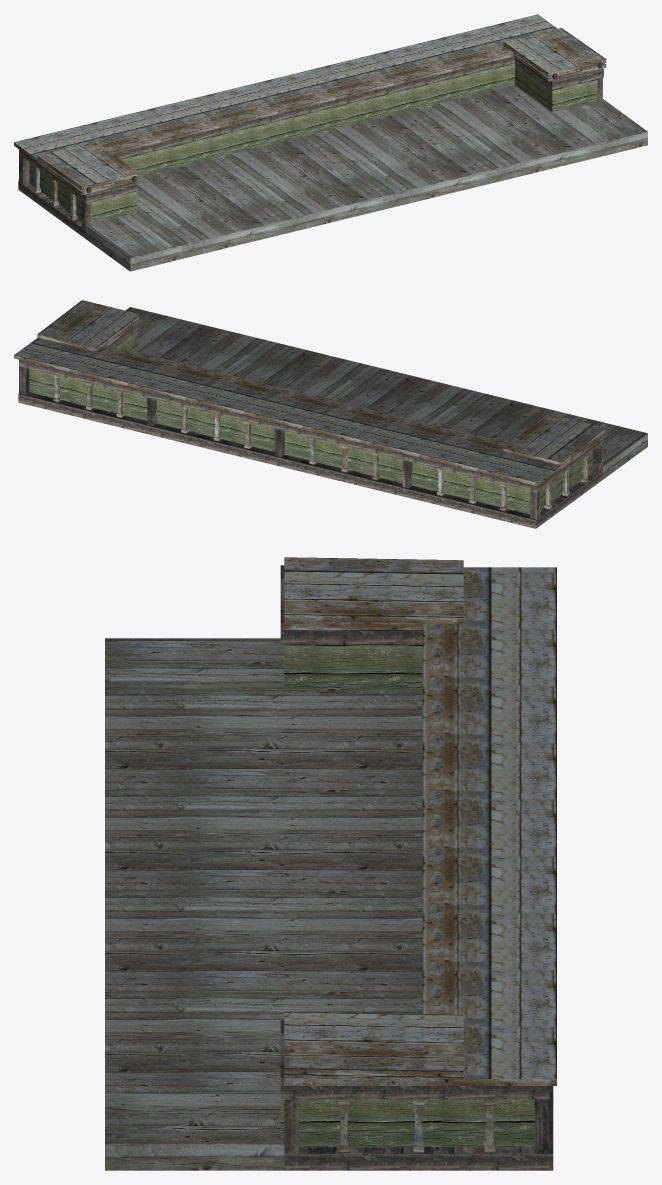
Rendered from westbar2.fbx.
3 renders of one model, top to bottom at view 1: azimuth 30°, elevation 25°; view 2: azimuth 150°, elevation 25°; view 3: azimuth 270°, elevation 25°, orthographic. The views are drawn at different scales.
Visible parts, largest first — view 1: westbar2; view 2: westbar2; view 3: westbar2.
Boxes of the visible parts, bbox=[...] form: westbar2: bbox=[14, 14, 647, 271]; westbar2: bbox=[14, 300, 647, 528]; westbar2: bbox=[105, 557, 556, 1170].
Bounding box in the file's own units: 64800 × 6200 × 24200.
